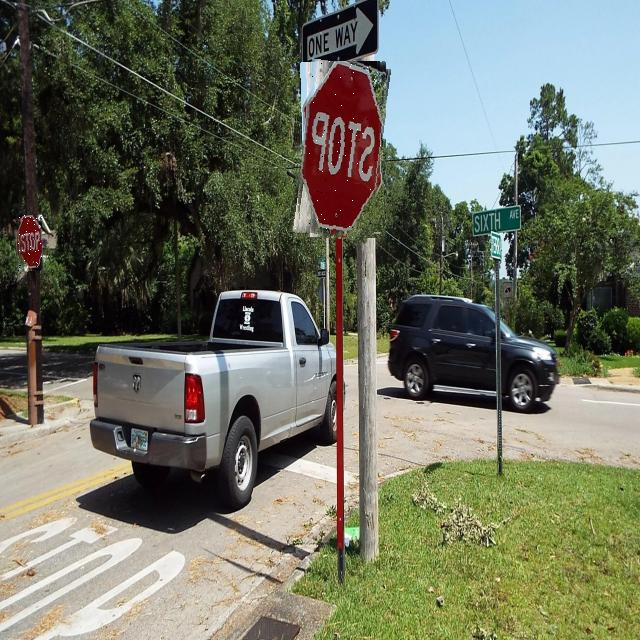stop: (294, 61, 386, 240), (15, 215, 42, 272)
